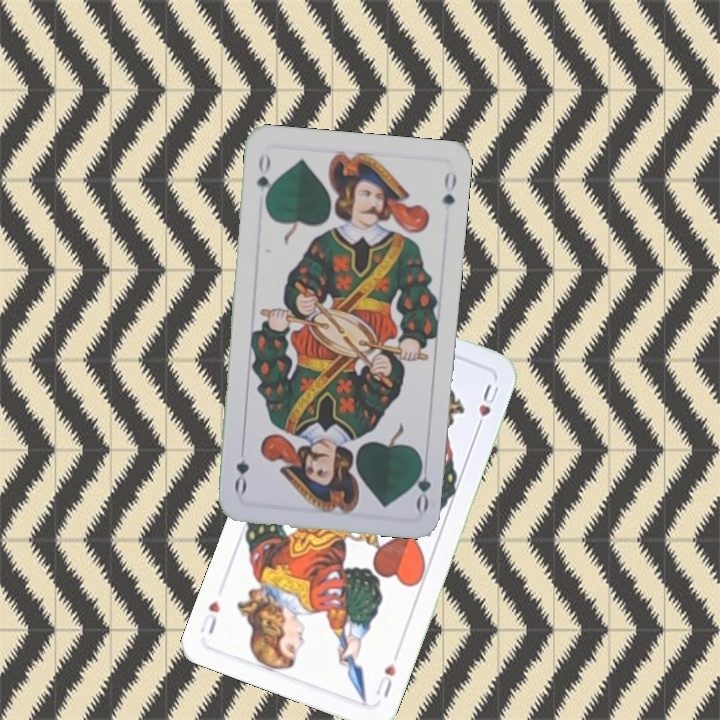GO: (408, 454, 434, 514), (252, 150, 275, 208)
HU: (371, 659, 399, 701)
